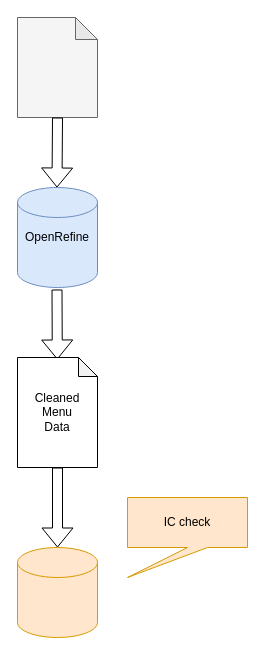
Image size: 265x655. Some labels were removed from this diagram. The centre of each missing label's shape, as x and y in pixels:
"Dirty Menu Data" goes at (57,67).
"SQLite" goes at (57,592).
